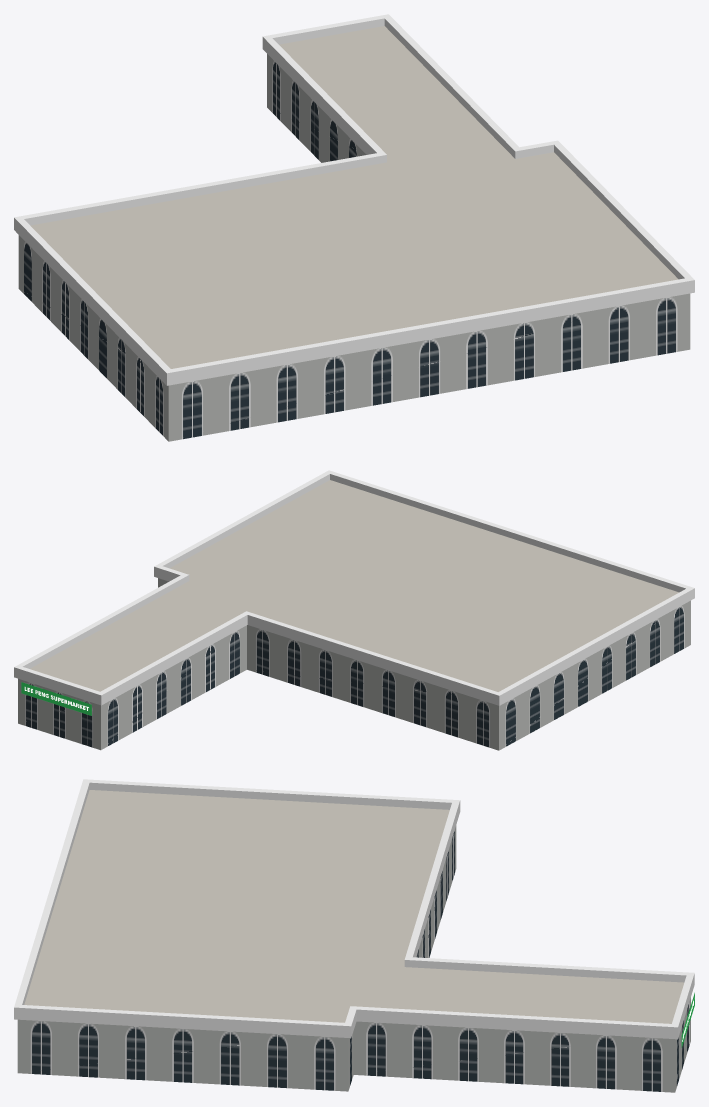
The model's file is leefeng.glb.
3 renders of one model, top to bottom at view 1: azimuth 30°, elevation 25°; view 2: azimuth 150°, elevation 25°; view 3: azimuth 270°, elevation 25°, orthographic. The views are drawn at different scales.
Visible parts, largest first — view 1: leefeng_lod0; view 2: leefeng_lod0; view 3: leefeng_lod0.
Part boxes in pixels (bbox=[...]): leefeng_lod0: bbox=[14, 14, 694, 441]; leefeng_lod0: bbox=[14, 470, 694, 750]; leefeng_lod0: bbox=[14, 779, 694, 1092].
Size of what is drawn, in the model's own units: 44.56 by 5.6 by 51.68.
Materials: 4 (2 with a texture image).
